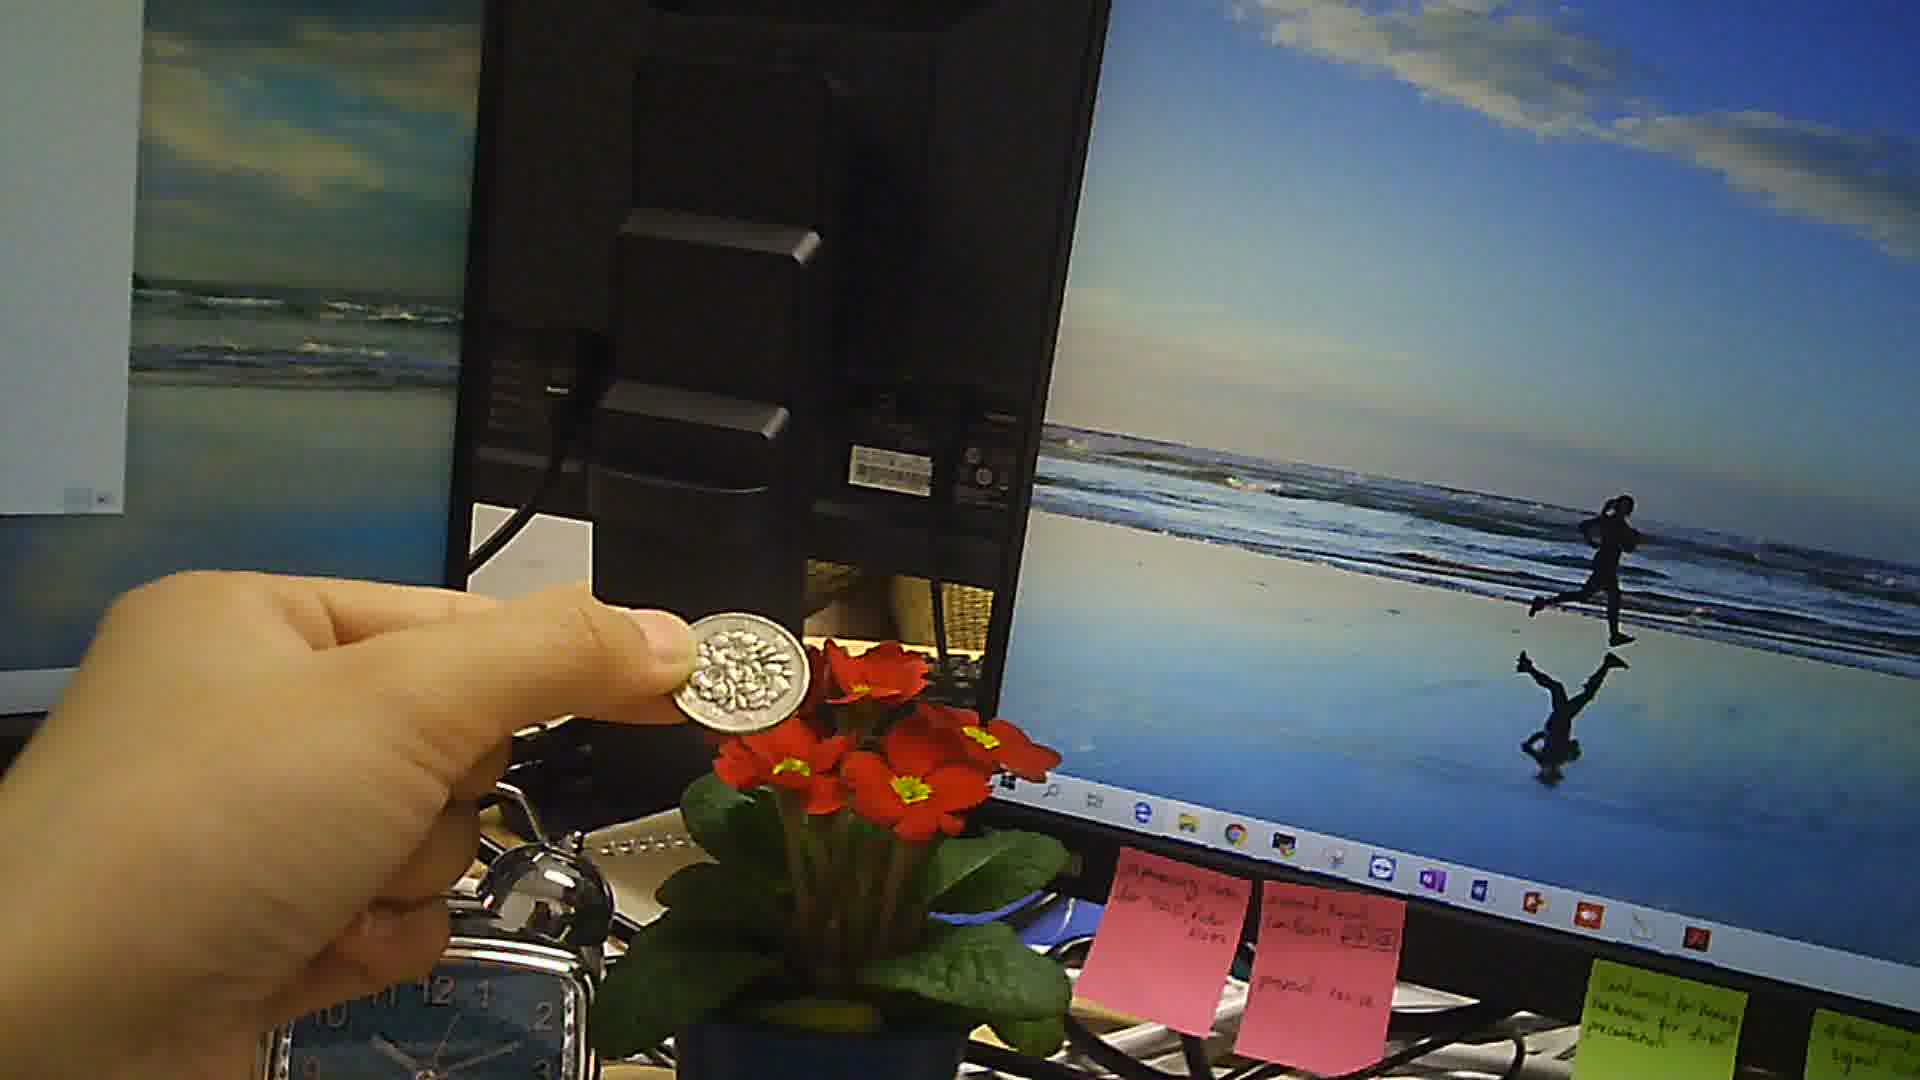100 Yen: (667, 604, 814, 738)
